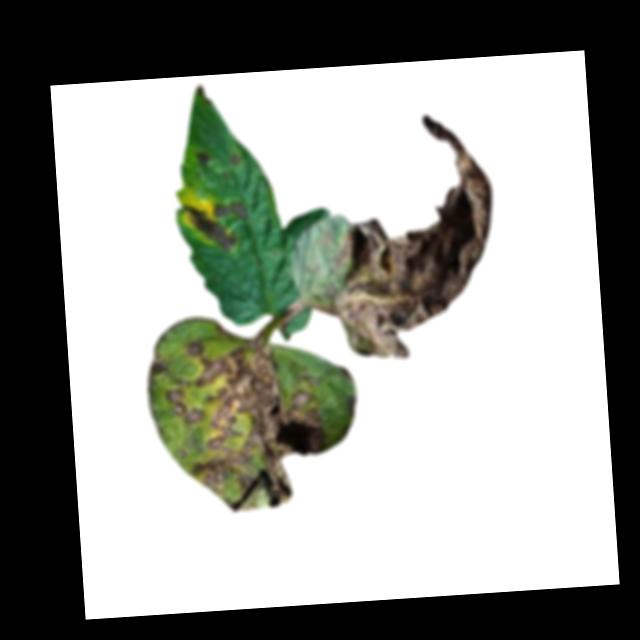Early_blight: (314, 108, 503, 362), (141, 328, 333, 519), (180, 194, 253, 254), (196, 148, 212, 165), (228, 149, 244, 165)
